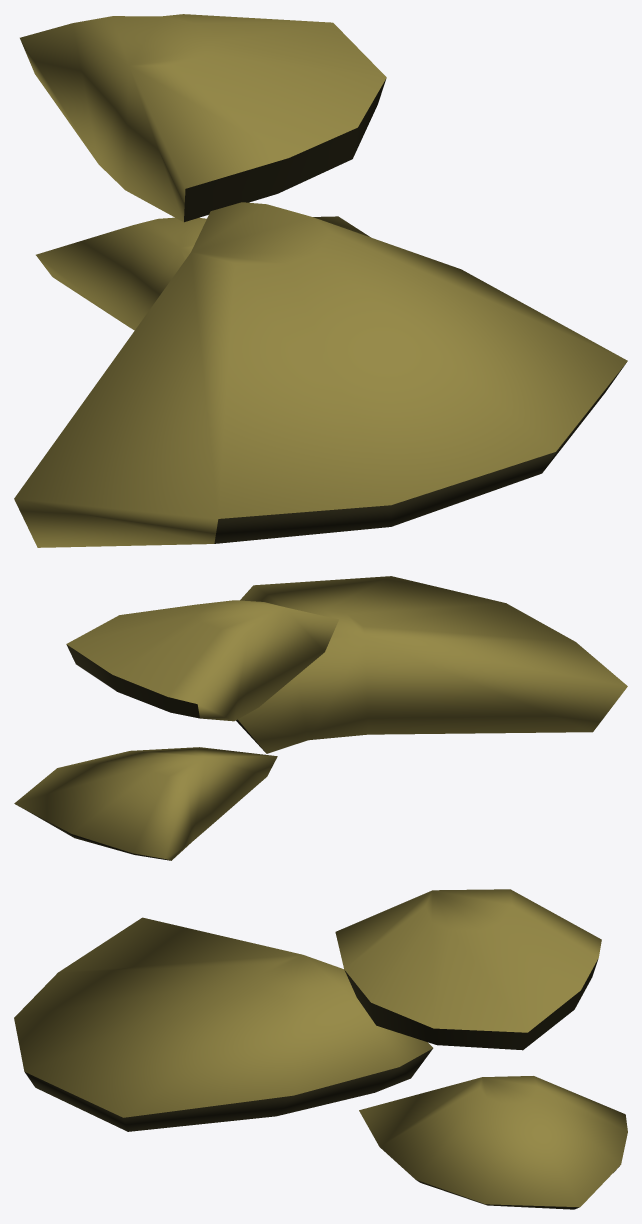
The model's file is Fomes.fbx.
3 renders of one model, top to bottom at view 1: azimuth 30°, elevation 25°; view 2: azimuth 150°, elevation 25°; view 3: azimuth 270°, elevation 25°, orthographic. The views are drawn at different scales.
Visible parts, largest first — view 1: Fomes; view 2: Fomes; view 3: Fomes.
Boxes of the visible parts, bbox=[...] form: Fomes: bbox=[14, 14, 627, 547]; Fomes: bbox=[14, 576, 627, 860]; Fomes: bbox=[14, 889, 627, 1209].
Size of the model in its own units: 40 by 19.74 by 48.
